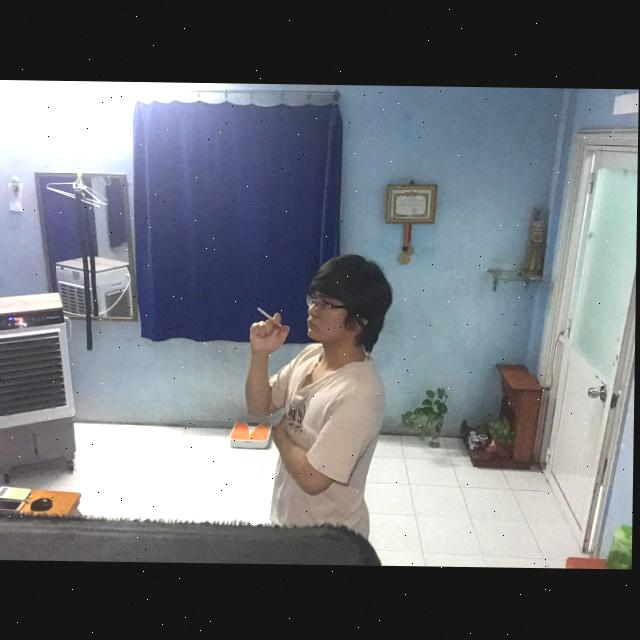cigarette: (258, 307, 282, 326)
